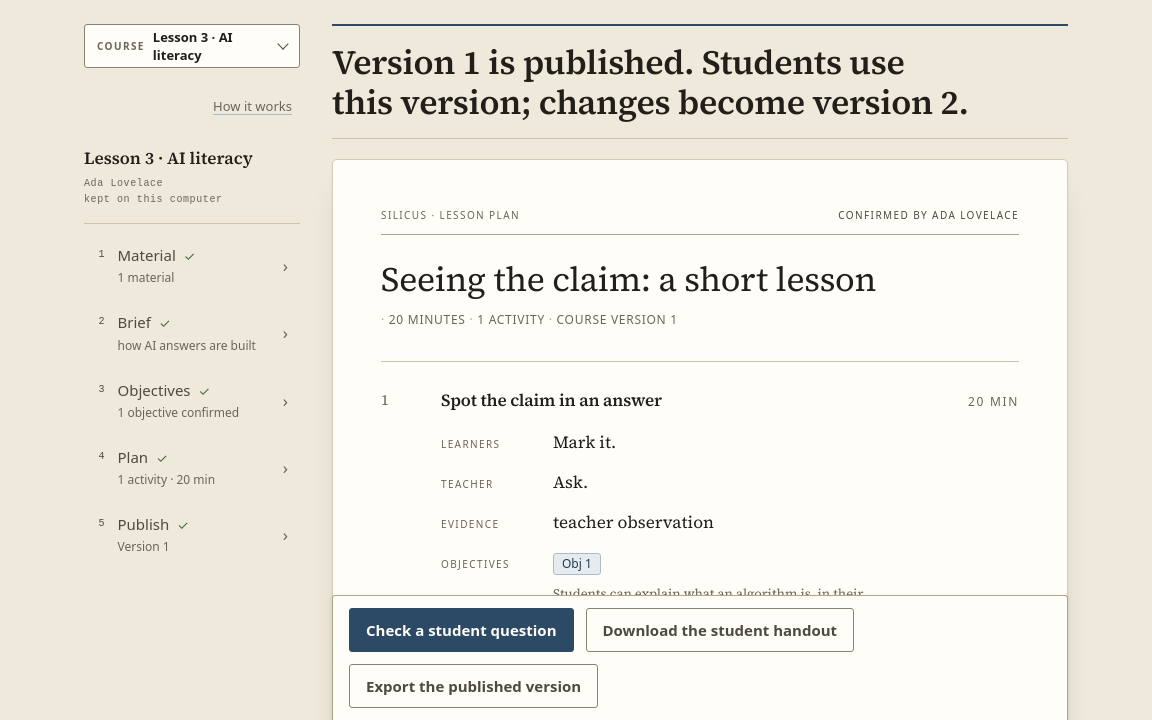
Test: the workspace: edit any stage without hunting for it › once published, objectives are only a look: no verbs, no Edit objectives on the plan
The width and height of the screenshot is (1152, 720).
Check: the text "Version 1 is published. Students use this version; changes become version 2." is shown, box [332,42,1068,122]
Click the button "3 Objectives ✓ 1 objective confirmed ›" at point(193, 400), box [86,366,300,434]
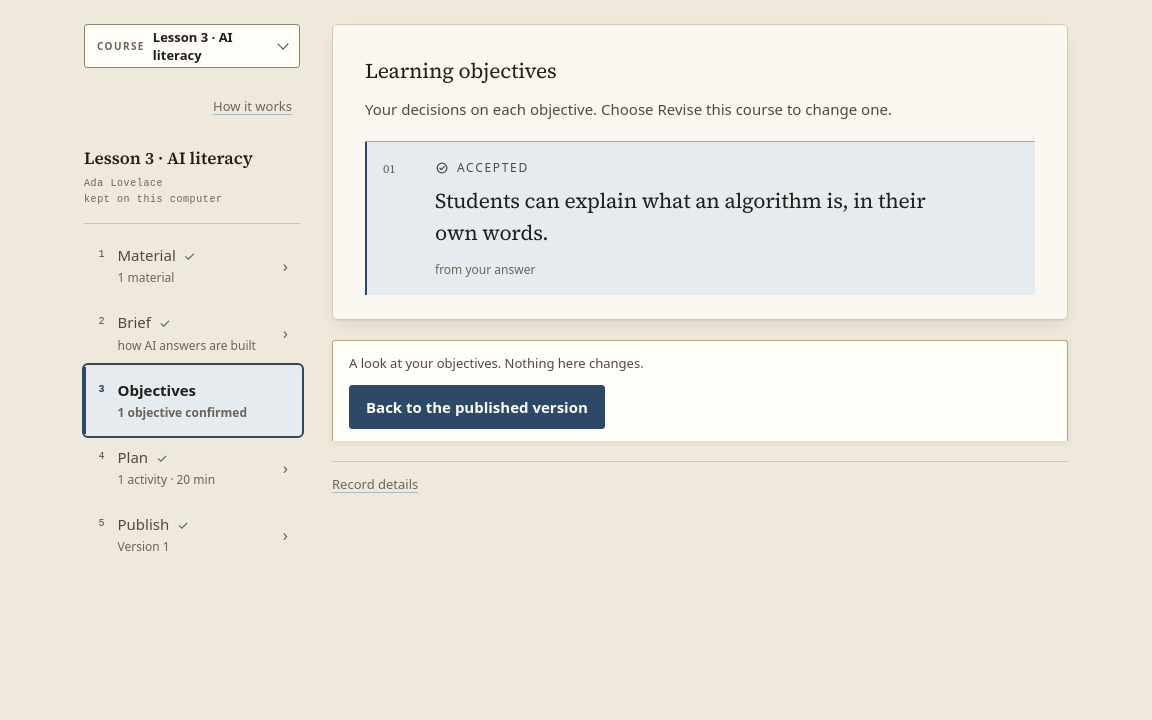
Check: the heading "Learning objectives" is shown, box [365,56,557,85]
Check: the button "Back to the published version" is shown, box [349,385,605,429]
